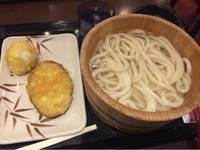kamaage: (83, 14, 200, 119)
satumaimo: (30, 61, 71, 118), (8, 39, 38, 73)
